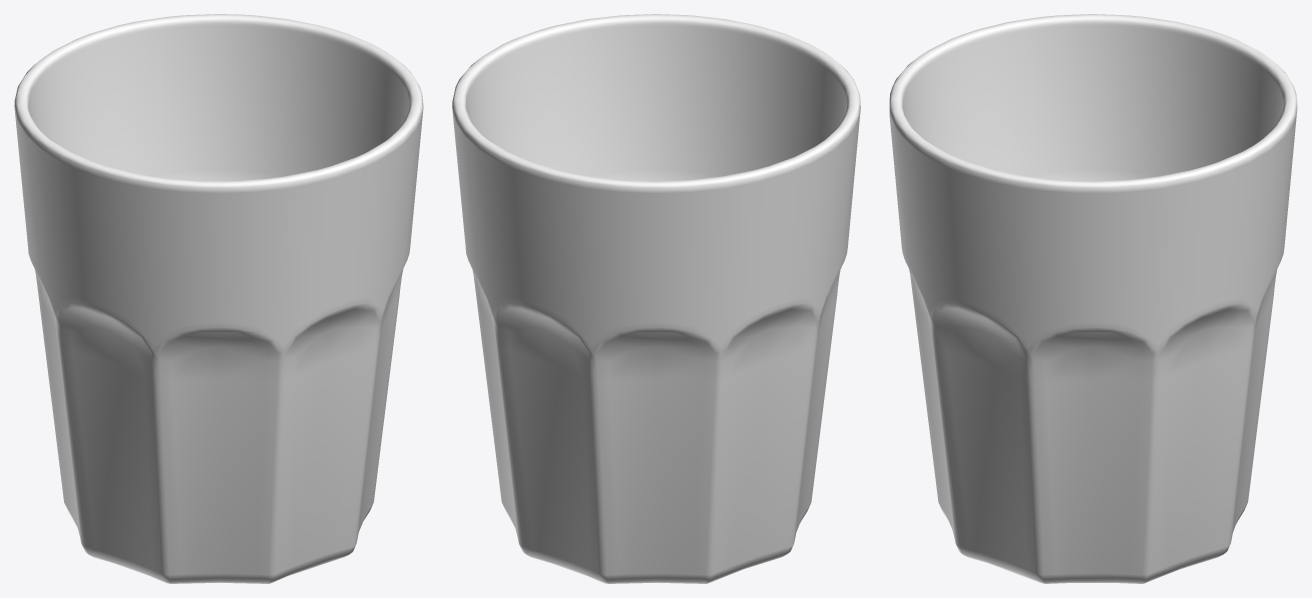
The model's file is pokal_szklanka_80621816.glb.
3 views of the same model, side by side, from view 1: azimuth 30°, elevation 25°; view 2: azimuth 150°, elevation 25°; view 3: azimuth 270°, elevation 25° (orthographic).
Parts seen in each view (by area): view 1: pokal_szklanka_80621816; view 2: pokal_szklanka_80621816; view 3: pokal_szklanka_80621816.
Part boxes in pixels (box(x1,y1,x2,y2)): pokal_szklanka_80621816: box(14, 14, 423, 583); pokal_szklanka_80621816: box(452, 14, 860, 583); pokal_szklanka_80621816: box(889, 14, 1297, 583).
Bounding box in the file's own units: 0.0845 × 0.098 × 0.0845.
1 material, 1 textured.
